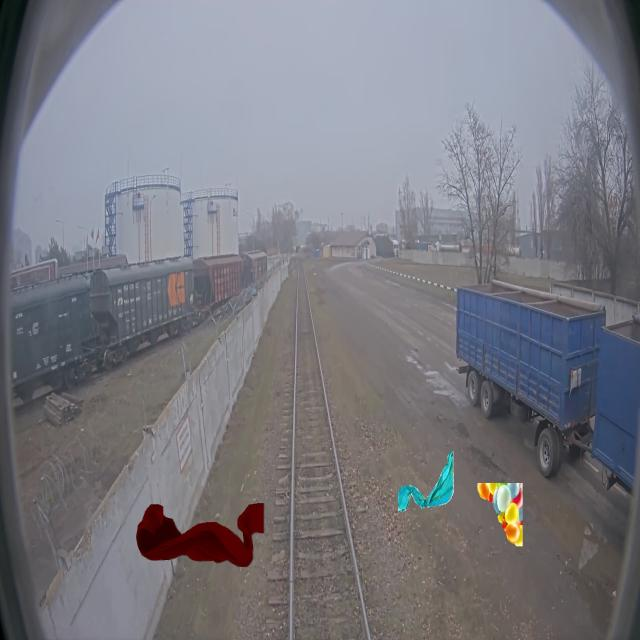balloon: (477, 482, 523, 546)
floating object: (136, 503, 264, 567), (398, 450, 453, 514)
